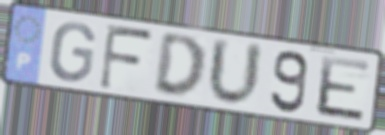9: (270, 49, 310, 113)
D: (151, 33, 208, 101)
E: (315, 53, 373, 125)
F: (97, 22, 156, 93)
G: (47, 21, 98, 84)
U: (205, 35, 266, 110)
